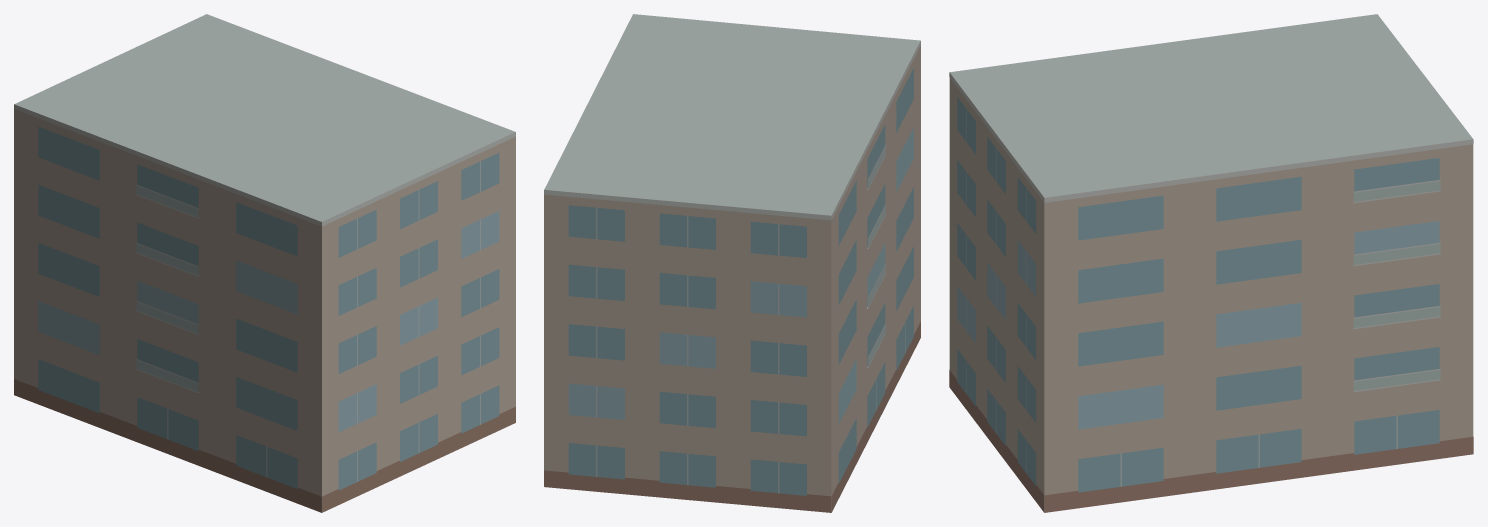
Rendered from survey-upis-32699231.glb.
The picture shows the model from 3 angles, left to right: view 1: azimuth 30°, elevation 25°; view 2: azimuth 150°, elevation 25°; view 3: azimuth 270°, elevation 25°; orthographic projection. The views are drawn at different scales.
Parts seen in each view (by area): view 1: survey-upis-32699231.tmp; view 2: survey-upis-32699231.tmp; view 3: survey-upis-32699231.tmp.
Boxes of the visible parts, box(x1,y1,x2,y2) form: survey-upis-32699231.tmp: box(14, 14, 515, 512); survey-upis-32699231.tmp: box(544, 14, 920, 512); survey-upis-32699231.tmp: box(949, 14, 1473, 512).
Bounding box in the file's own units: 19.29 × 15.4 × 23.23.
